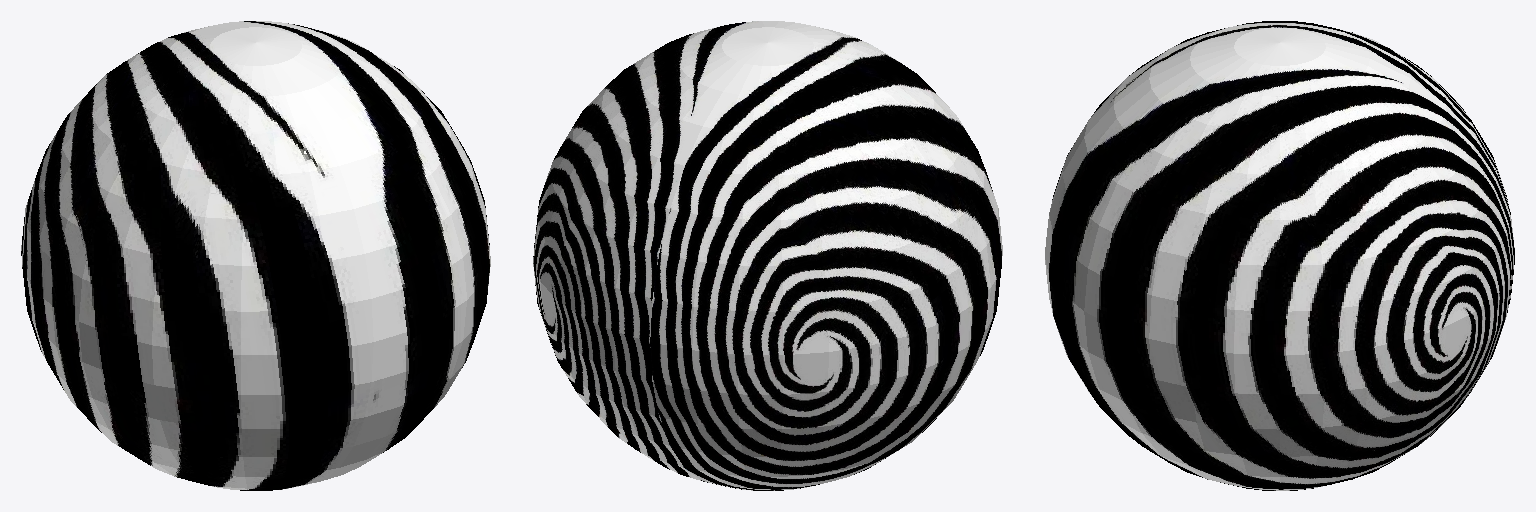
The picture shows the model from 3 angles: view 1: azimuth 30°, elevation 25°; view 2: azimuth 150°, elevation 25°; view 3: azimuth 270°, elevation 25°; orthographic projection.
Visible parts, largest first — view 1: Sphere; view 2: Sphere; view 3: Sphere.
Boxes of the visible parts, x1,y1,x2,y2 form: Sphere: [21, 21, 490, 490]; Sphere: [533, 21, 1002, 490]; Sphere: [1045, 21, 1514, 490].
Size of the model in its own units: 7.91 by 7.91 by 7.91.
1 materials, 1 textured.